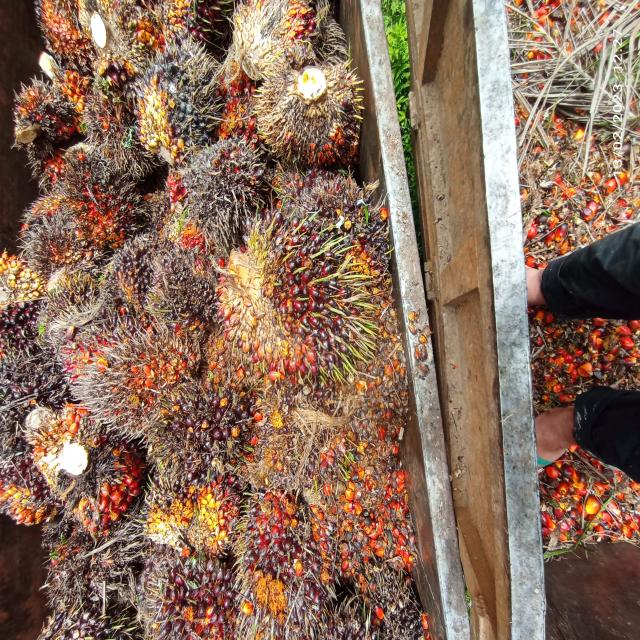fraksi 00: (136, 354, 270, 511), (136, 463, 262, 572), (125, 41, 224, 170), (0, 251, 58, 389), (0, 379, 50, 528), (148, 233, 214, 333), (98, 236, 156, 322)
fraksi 1: (197, 197, 383, 414), (232, 470, 324, 628)
fraksi 3: (27, 398, 152, 558)
fraksi 4: (77, 328, 202, 450), (56, 153, 138, 260)
